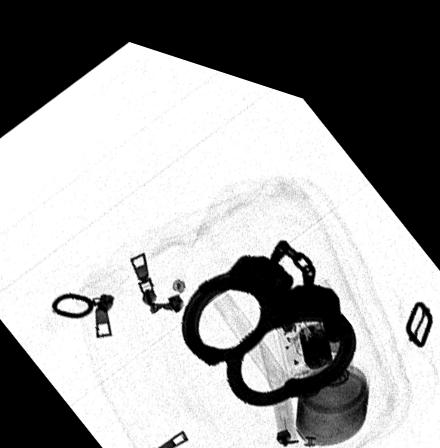HandCuffs: (179, 221, 355, 389)
